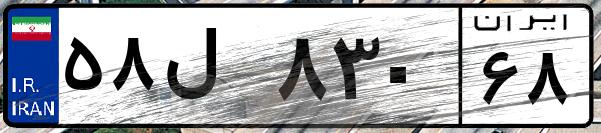0: (385, 28, 445, 110)
3: (330, 28, 385, 110)
5: (57, 26, 110, 100)
6: (475, 38, 525, 113)
8: (270, 28, 330, 110), (525, 38, 570, 115), (110, 28, 158, 98)
ل: (158, 20, 270, 120)
